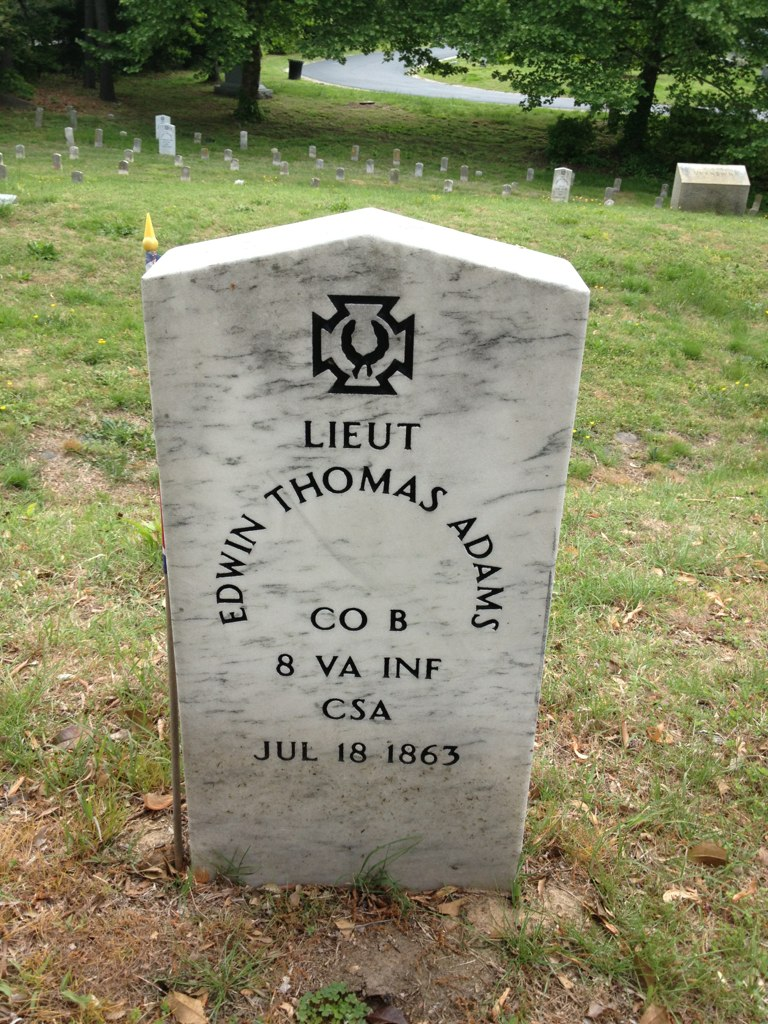military: (152, 204, 585, 872)
